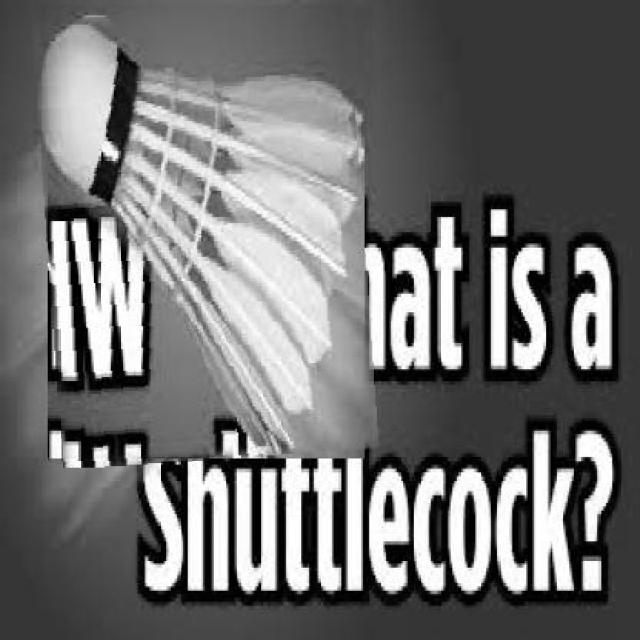Shuttlecock: (40, 5, 372, 463)
